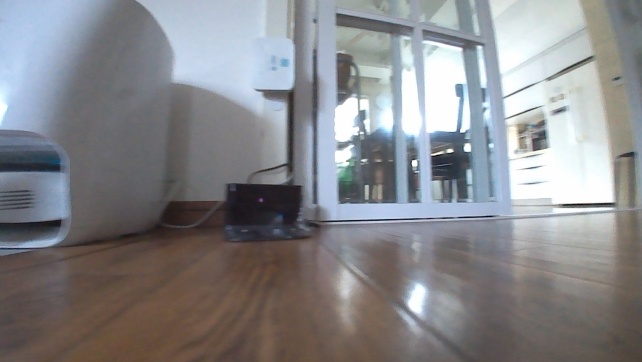charger: (221, 180, 313, 243)
wire: (150, 177, 221, 229), (244, 161, 291, 182)
